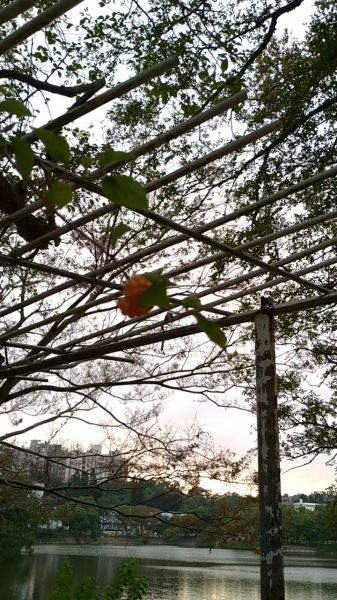eggs: (112, 271, 162, 326)
